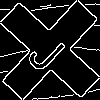J: (25, 25, 75, 76)
